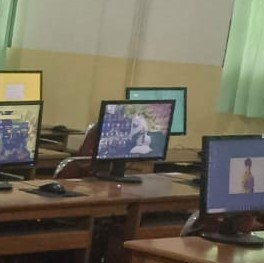monitor: (200, 135, 264, 217), (94, 100, 176, 163), (0, 100, 44, 171), (125, 87, 187, 137)
